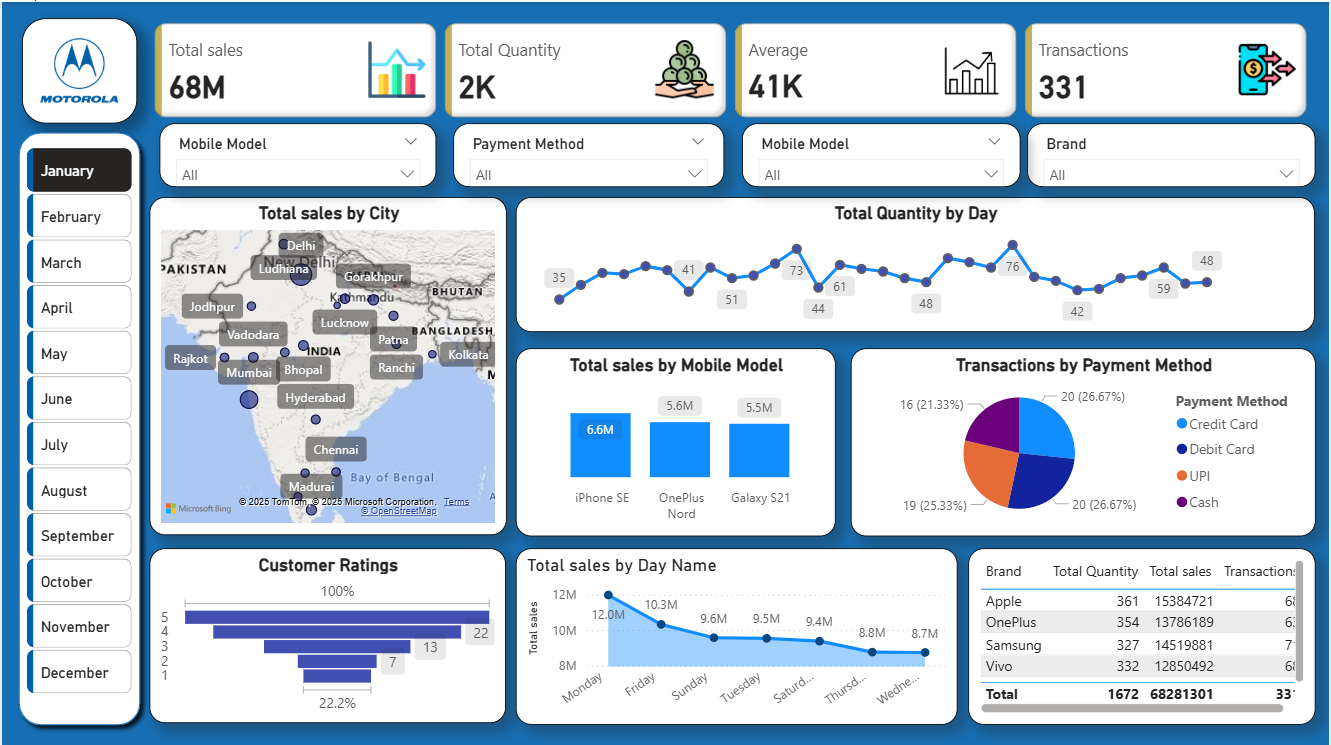

What the dashboard file says about the page in this screenshot:
{"tool":"powerbi","page":{"name":"Page 1","canvas":[1280,720],"ordinal":0},"visuals":[{"type":"image","box":[19.3,15.7,111,101.3],"z":0},{"type":"shape","box":[7.2,117,135.1,589.9],"z":1000},{"type":"advancedSlicerVisual","fields":{"Values":["Sales_Data.Date.Variation.Date Hierarchy.Month"]},"box":[18.8,136.2,111.2,543.8],"z":2000},{"type":"cardVisual","fields":{"Data":["Sales_Data.Total sales","Sales_Data.Total Quantity","Sales_Data.Transactions","Sales_Data.Transactions1"]},"box":[142.5,16.2,1125,101.2],"z":3000},{"type":"map","fields":{"Category":["Sales_Data.City"],"Size":["Sales_Data.Total sales"]},"box":[142.5,188.8,345,326.2],"z":4000},{"type":"lineChart","fields":{"Category":["Sales_Data.Date.Variation.Date Hierarchy.Month","Sales_Data.Date.Variation.Date Hierarchy.Day"],"Y":["Sales_Data.Total Quantity"]},"box":[496.2,188.8,771.2,130],"z":5000},{"type":"clusteredColumnChart","fields":{"Category":["Sales_Data.Mobile Model"],"Y":["Sales_Data.Total sales"]},"box":[496.2,333.8,308.8,181.2],"z":6000},{"type":"pieChart","fields":{"Category":["Sales_Data.Payment Method"],"Y":["Sales_Data.Transactions"]},"box":[818.8,333.8,448.8,181.2],"z":7000},{"type":"funnel","title":"Customer Ratings","fields":{"Category":["Sales_Data.Customer Ratings"],"Y":["CountNonNull(Sales_Data.Customer Ratings)"]},"box":[142.5,527.5,343.8,168.8],"z":8000},{"type":"areaChart","fields":{"Category":["Sales_Data.Day Name"],"Y":["Sales_Data.Total sales"]},"box":[496.2,527.5,426.2,170],"z":9000},{"type":"tableEx","fields":{"Values":["Sales_Data.Brand","Sales_Data.Total Quantity","Sales_Data.Total sales","Sales_Data.Transactions"]},"box":[932.5,527.5,335,170],"z":10000},{"type":"slicer","fields":{"Values":["Sales_Data.Brand"]},"box":[988.8,117.5,278.8,61.2],"z":11000},{"type":"slicer","fields":{"Values":["Sales_Data.Payment Method"]},"box":[435,117.5,261.2,61.2],"z":12000},{"type":"slicer","fields":{"Values":["Sales_Data.Mobile Model"]},"box":[713.8,117.5,268.8,61.2],"z":13000},{"type":"slicer","fields":{"Values":["Sales_Data.Mobile Model"]},"box":[152.5,117.5,267.5,61.2],"z":14000}]}

Visuals, with their boxes in screenshot pixels (x1, y1, x2, y2), scaled from the page's 1280x720 canvas onto the 1331x745 screenshot:
image: <box>20,16,135,121</box>
shape: <box>7,121,148,731</box>
advancedSlicerVisual - Sales_Data.Date.Variation.Date Hierarchy.Month: <box>20,141,135,704</box>
cardVisual - Sales_Data.Total sales x Sales_Data.Total Quantity: <box>148,17,1318,121</box>
map - Sales_Data.City x Sales_Data.Total sales: <box>148,195,507,533</box>
lineChart - Sales_Data.Date.Variation.Date Hierarchy.Month x Sales_Data.Date.Variation.Date Hierarchy.Day: <box>516,195,1318,330</box>
clusteredColumnChart - Sales_Data.Mobile Model x Sales_Data.Total sales: <box>516,345,837,533</box>
pieChart - Sales_Data.Payment Method x Sales_Data.Transactions: <box>851,345,1318,533</box>
"Customer Ratings" funnel: <box>148,546,506,720</box>
areaChart - Sales_Data.Day Name x Sales_Data.Total sales: <box>516,546,959,722</box>
tableEx - Sales_Data.Brand x Sales_Data.Total Quantity: <box>970,546,1318,722</box>
slicer - Sales_Data.Brand: <box>1028,122,1318,185</box>
slicer - Sales_Data.Payment Method: <box>452,122,724,185</box>
slicer - Sales_Data.Mobile Model: <box>742,122,1022,185</box>
slicer - Sales_Data.Mobile Model: <box>159,122,437,185</box>
